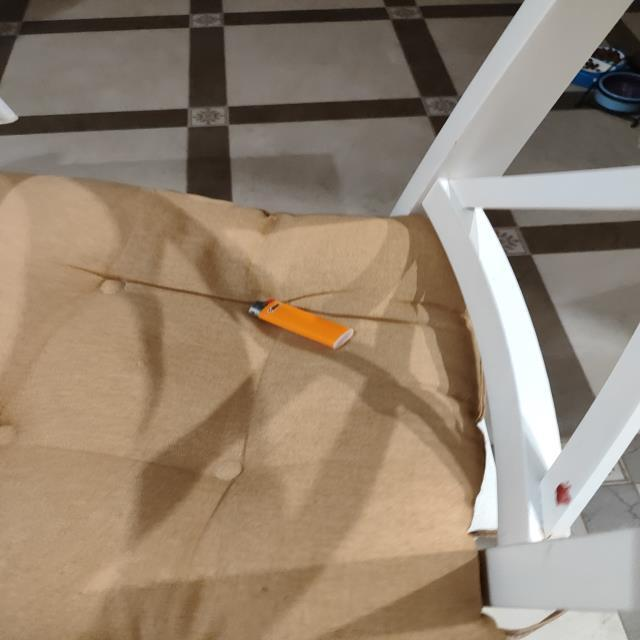lighter: (249, 301, 353, 349)
